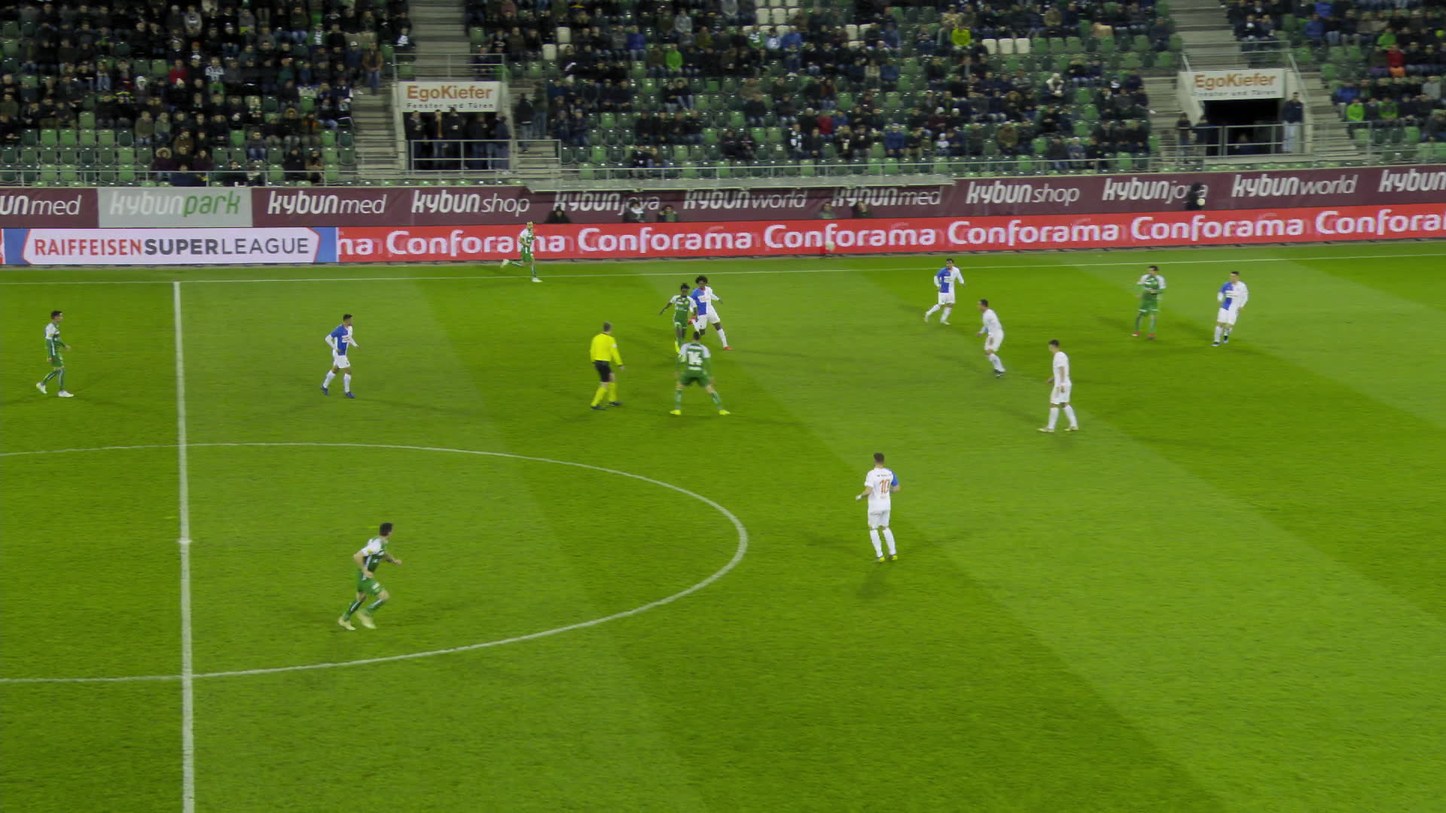ball: (677, 352, 687, 361)
player: (343, 523, 399, 632), (854, 451, 901, 564), (671, 332, 728, 419), (1045, 339, 1082, 433), (36, 309, 75, 397), (689, 274, 732, 349), (323, 315, 360, 397), (923, 257, 965, 327), (497, 218, 543, 281), (1213, 269, 1250, 347), (1131, 263, 1167, 341), (657, 283, 698, 350), (977, 297, 1008, 377)
referee: (587, 322, 631, 410)
